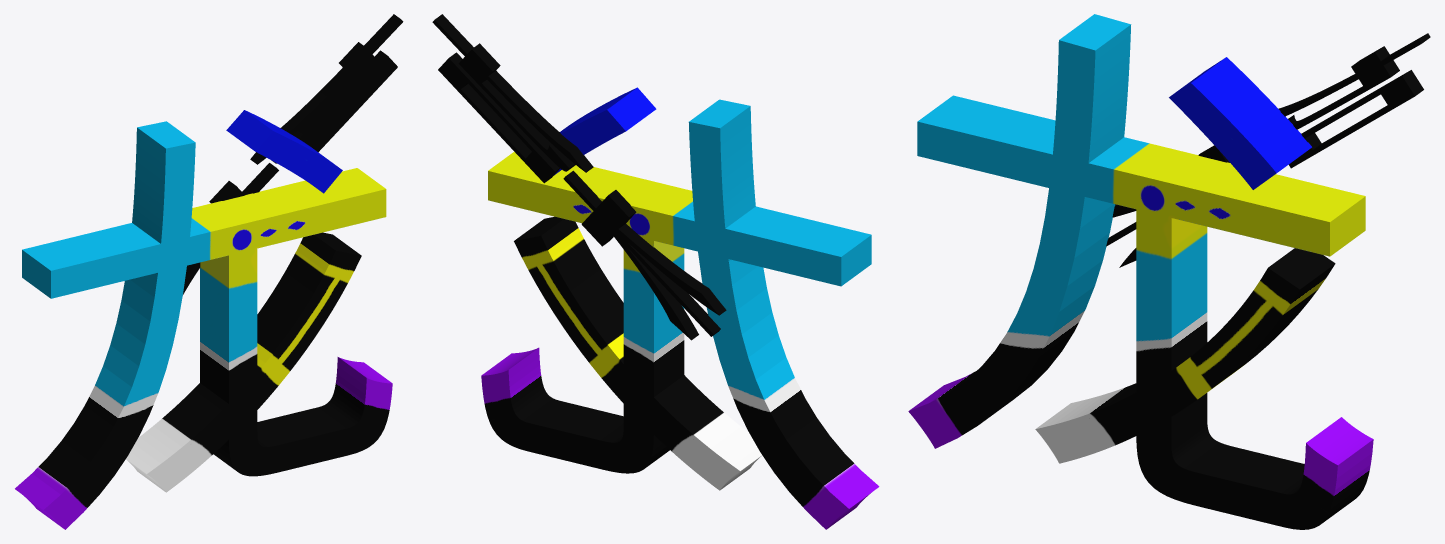
Rendered from Lizunamaru_Debug.fbx.
3 views of the same model, side by side, from view 1: azimuth 30°, elevation 25°; view 2: azimuth 150°, elevation 25°; view 3: azimuth 330°, elevation 25° (orthographic). The views are drawn at different scales.
Parts seen in each view (by area): view 1: Lizunamaru, Tripod; view 2: Lizunamaru, Tripod; view 3: Lizunamaru, Tripod.
Part boxes in pixels (left/top/right/bottom): Lizunamaru: left=15, top=110, right=392, bottom=529; Tripod: left=183, top=14, right=403, bottom=294; Lizunamaru: left=481, top=87, right=879, bottom=529; Tripod: left=432, top=14, right=726, bottom=340; Lizunamaru: left=908, top=14, right=1373, bottom=529; Tripod: left=1106, top=33, right=1430, bottom=267.
Bounding box in the file's own units: 103 × 102 × 16.57.
2 materials, 2 textured.
